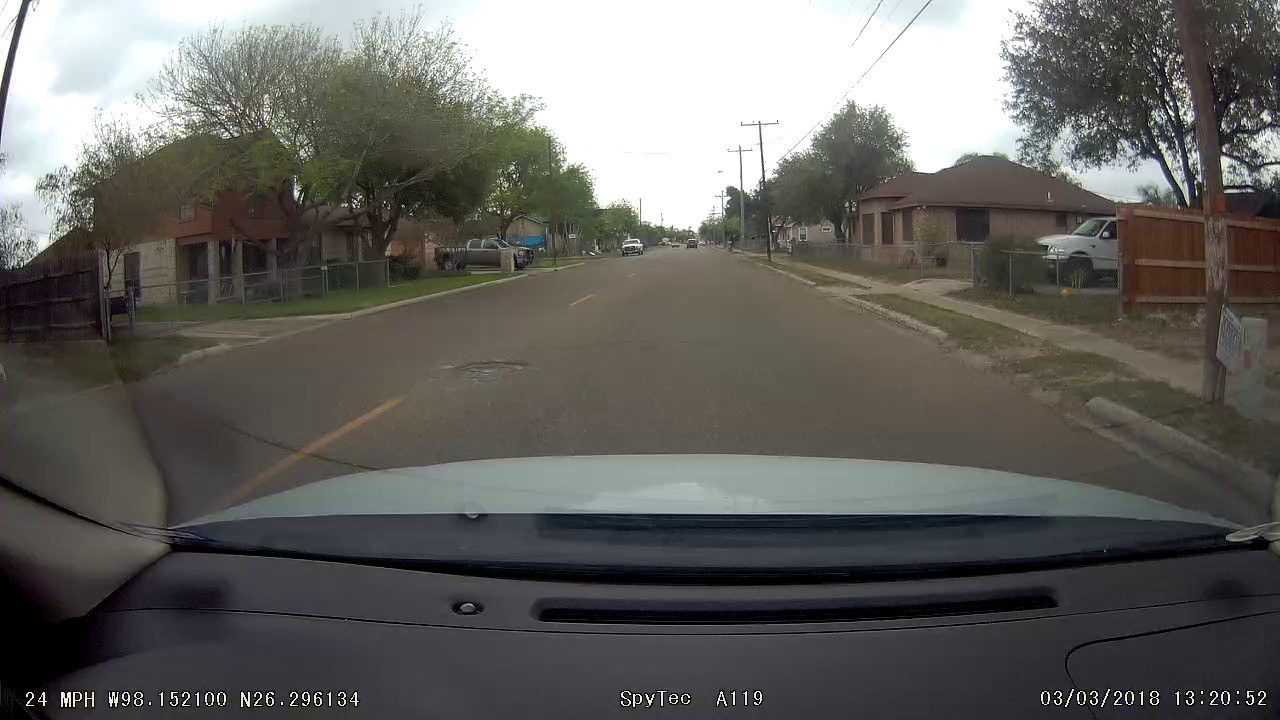manhole: (444, 350, 538, 387)
